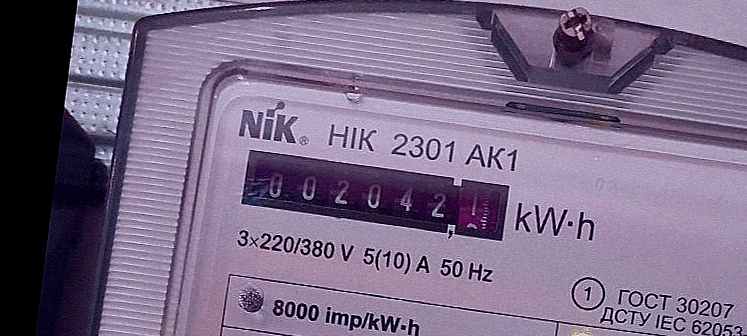0: (363, 181, 385, 213), (298, 173, 319, 206), (265, 170, 286, 202)
1: (465, 189, 483, 221)
2: (331, 178, 353, 209), (429, 190, 449, 221)
4: (396, 183, 418, 217)
screen: (235, 146, 516, 252)
